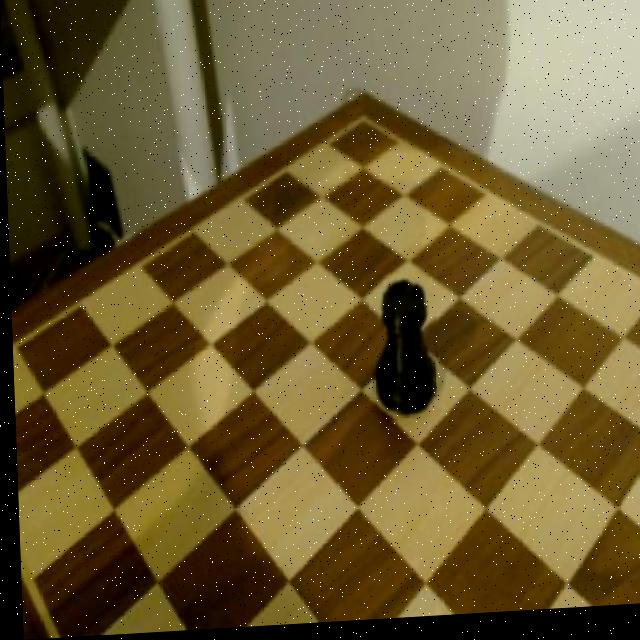black-queen: (367, 275, 438, 427)
